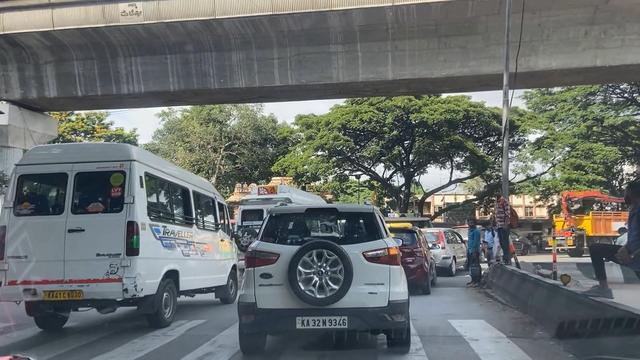HMV: (4, 139, 236, 323)
LMV: (246, 203, 415, 360)
